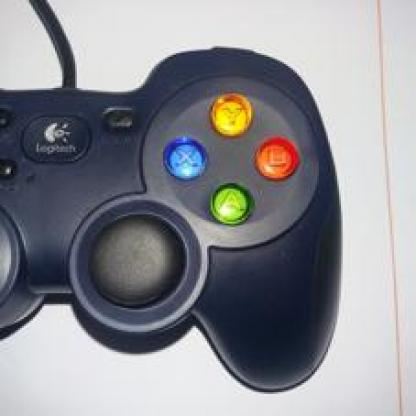gamepad: (0, 39, 367, 372)
